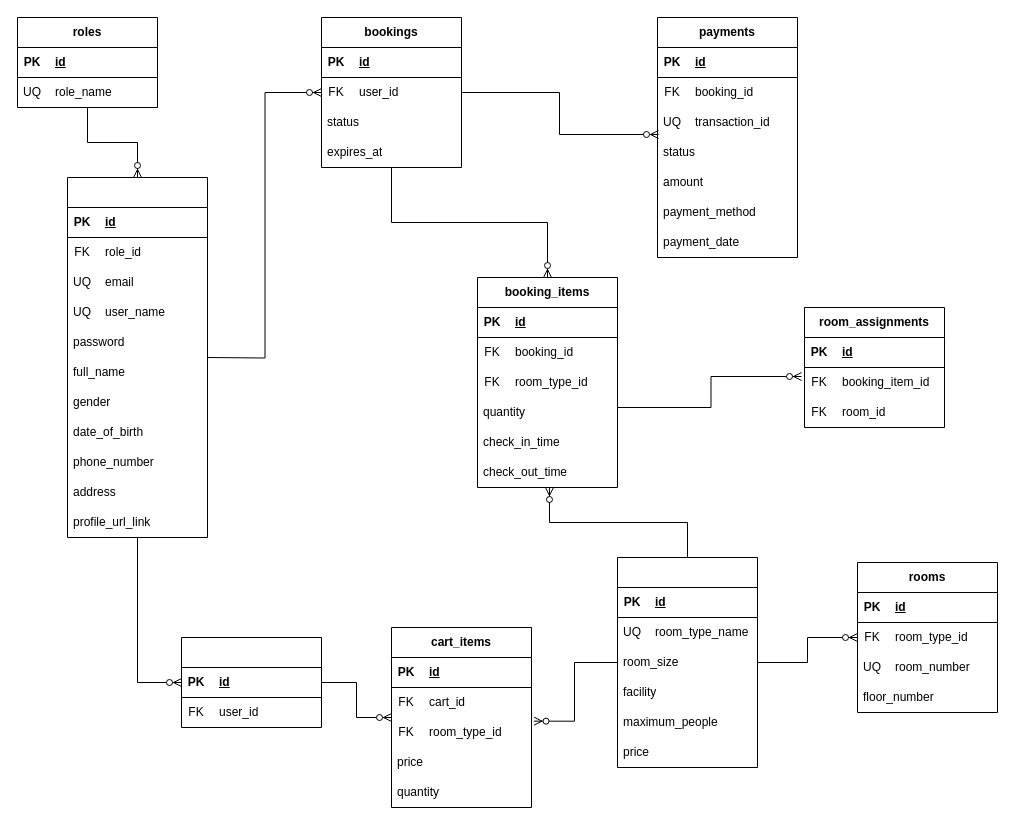
The diagram is 1015 pixels wide and 825 high, and some of its shapes have lost their labels. Here are the shapes that lost their labels. From the top down, the box of each, then its label:
(66, 176, 208, 538): users
(180, 636, 322, 728): carts
(616, 556, 758, 768): room_types
